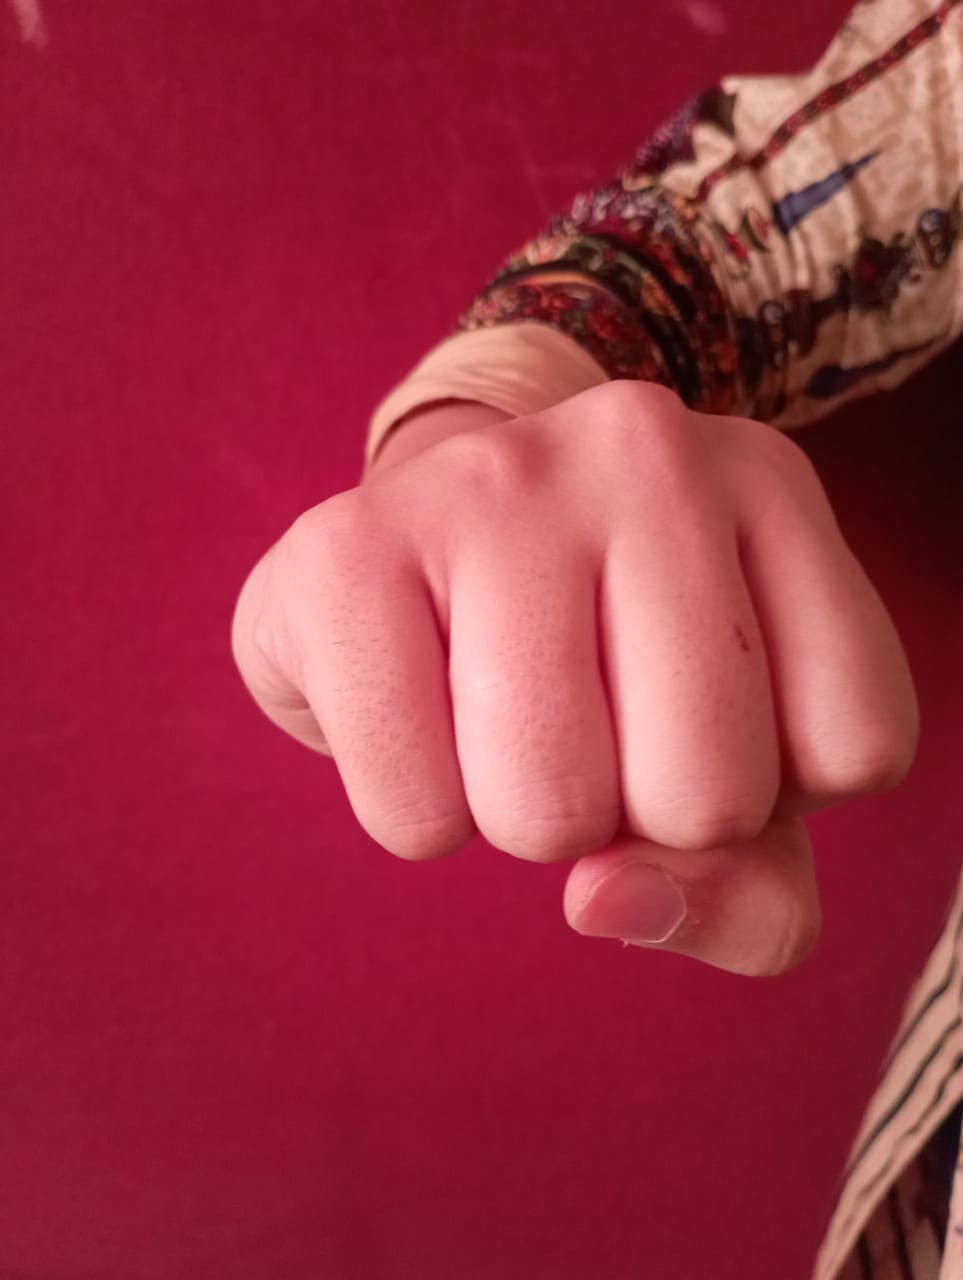BroCode: (225, 368, 931, 1019)
